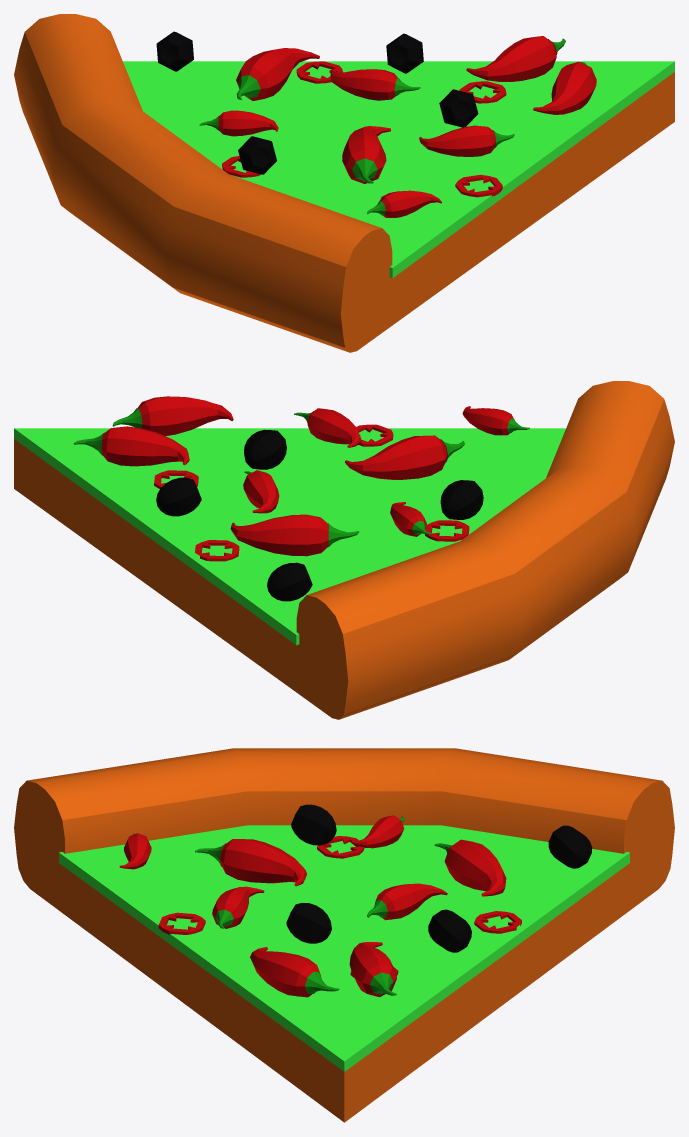
File: Pizza 6.fbx
3 renders of one model, top to bottom at view 1: azimuth 30°, elevation 25°; view 2: azimuth 150°, elevation 25°; view 3: azimuth 270°, elevation 25°, orthographic.
Parts seen in each view (by area): view 1: Pizza 6; view 2: Pizza 6; view 3: Pizza 6.
Boxes of the visible parts, bbox=[...] form: Pizza 6: bbox=[14, 14, 674, 352]; Pizza 6: bbox=[14, 381, 674, 719]; Pizza 6: bbox=[14, 748, 674, 1122].
Bounding box in the file's own units: 1.71 × 1.71 × 0.3167.
